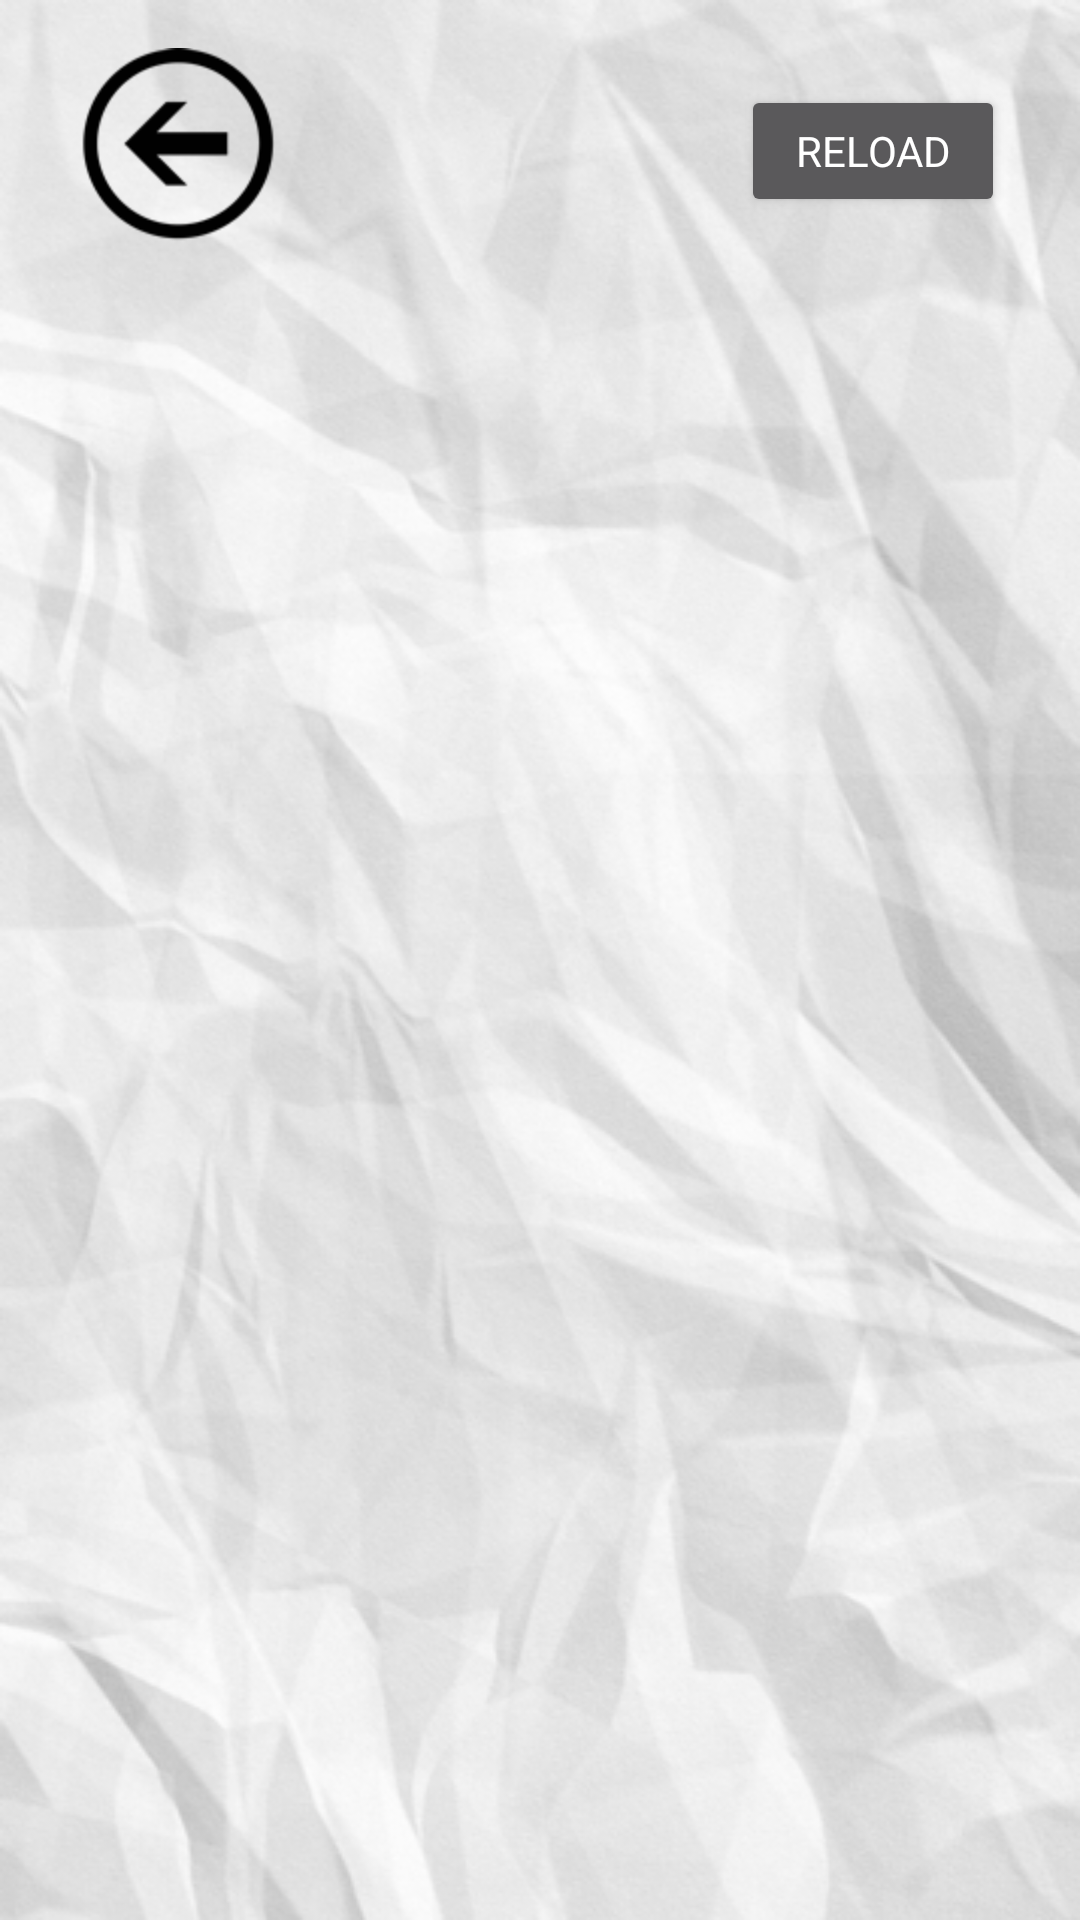

Where to tap for icons on this 1080*1920 app screen, as point (x, y):
back arrow: point (175, 148)
